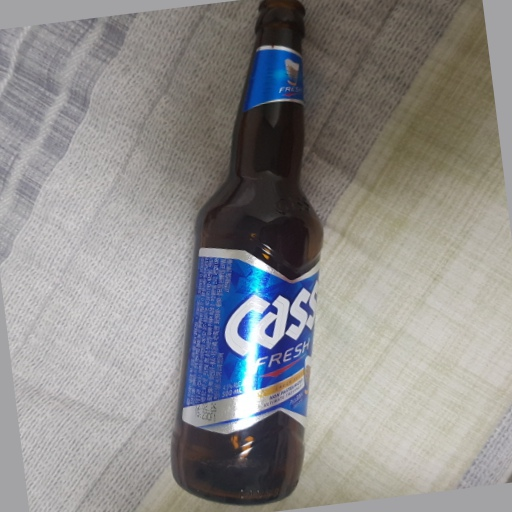Glass_1: (167, 2, 323, 502)
